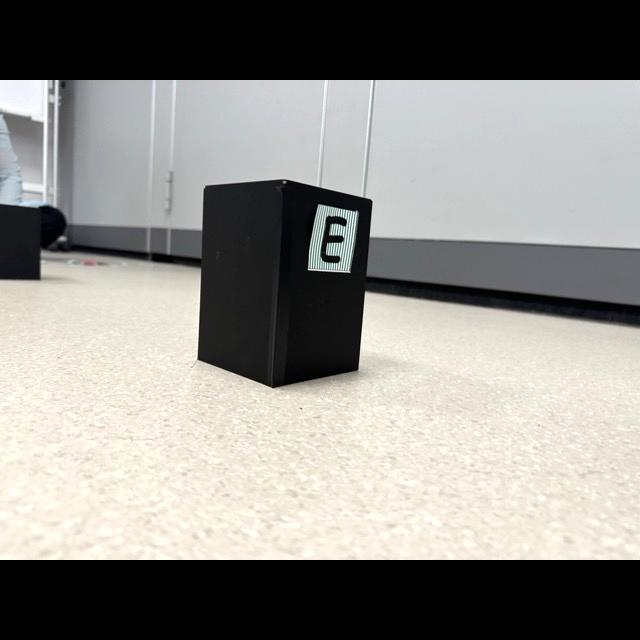E: (321, 216, 348, 263)
